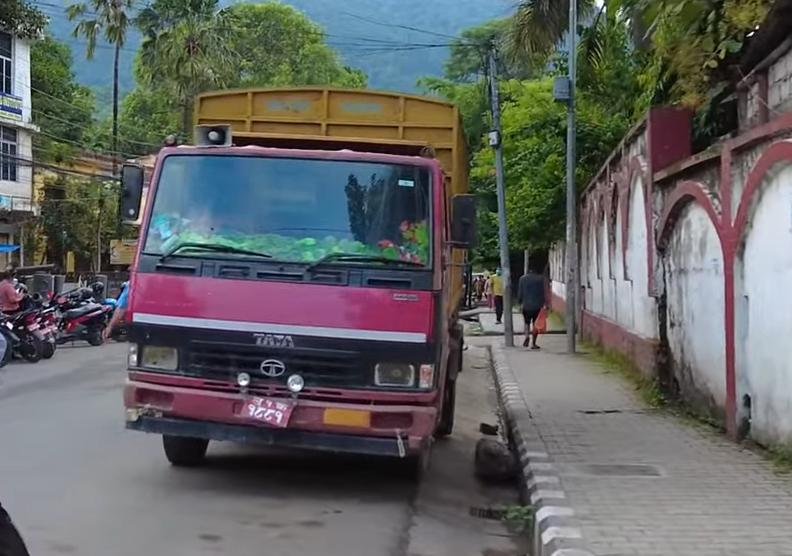bike: (8, 276, 106, 357)
mini_truck: (110, 72, 497, 480)
